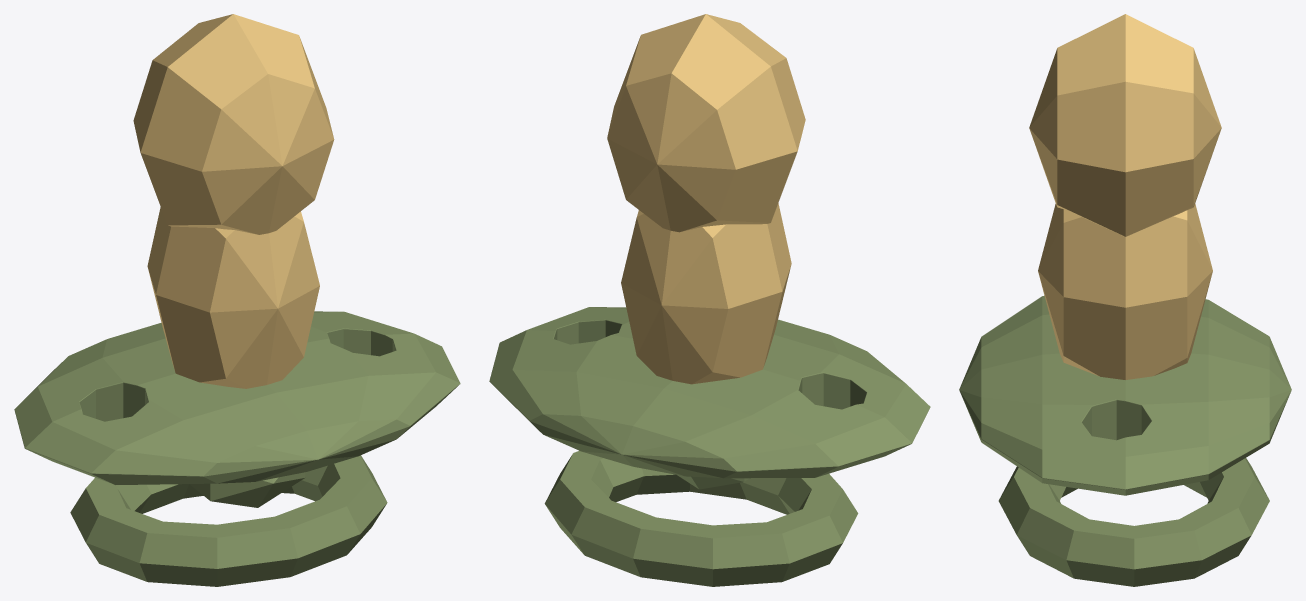
The model's file is pacifier.glb.
The picture shows the model from 3 angles, left to right: view 1: azimuth 30°, elevation 25°; view 2: azimuth 150°, elevation 25°; view 3: azimuth 270°, elevation 25°; orthographic projection. The views are drawn at different scales.
Parts seen in each view (by area): view 1: pacifier; view 2: pacifier; view 3: pacifier.
Boxes of the visible parts, left/top/right/bottom form: pacifier: left=14, top=14, right=460, bottom=586; pacifier: left=489, top=14, right=930, bottom=586; pacifier: left=959, top=14, right=1291, bottom=586.
Size of the model in its own units: 0.0539 by 0.0644 by 0.038.
